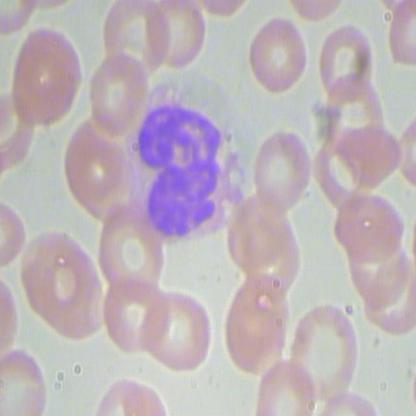RBC: (8, 23, 84, 133), (90, 197, 168, 302), (285, 296, 363, 401), (218, 278, 289, 376), (139, 289, 213, 380), (96, 279, 173, 358), (311, 19, 380, 102), (243, 14, 311, 97), (248, 125, 316, 208), (89, 50, 151, 137), (332, 191, 409, 260), (148, 1, 207, 71), (252, 358, 318, 415)
WBC: (120, 74, 252, 256)
